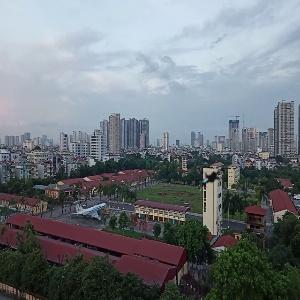drone: (190, 152, 236, 198)
